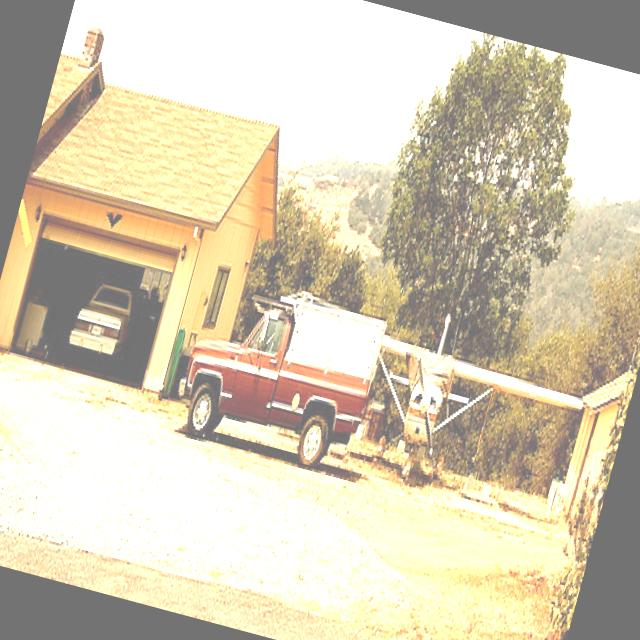Vehicle: (168, 272, 390, 482), (63, 278, 140, 378)
